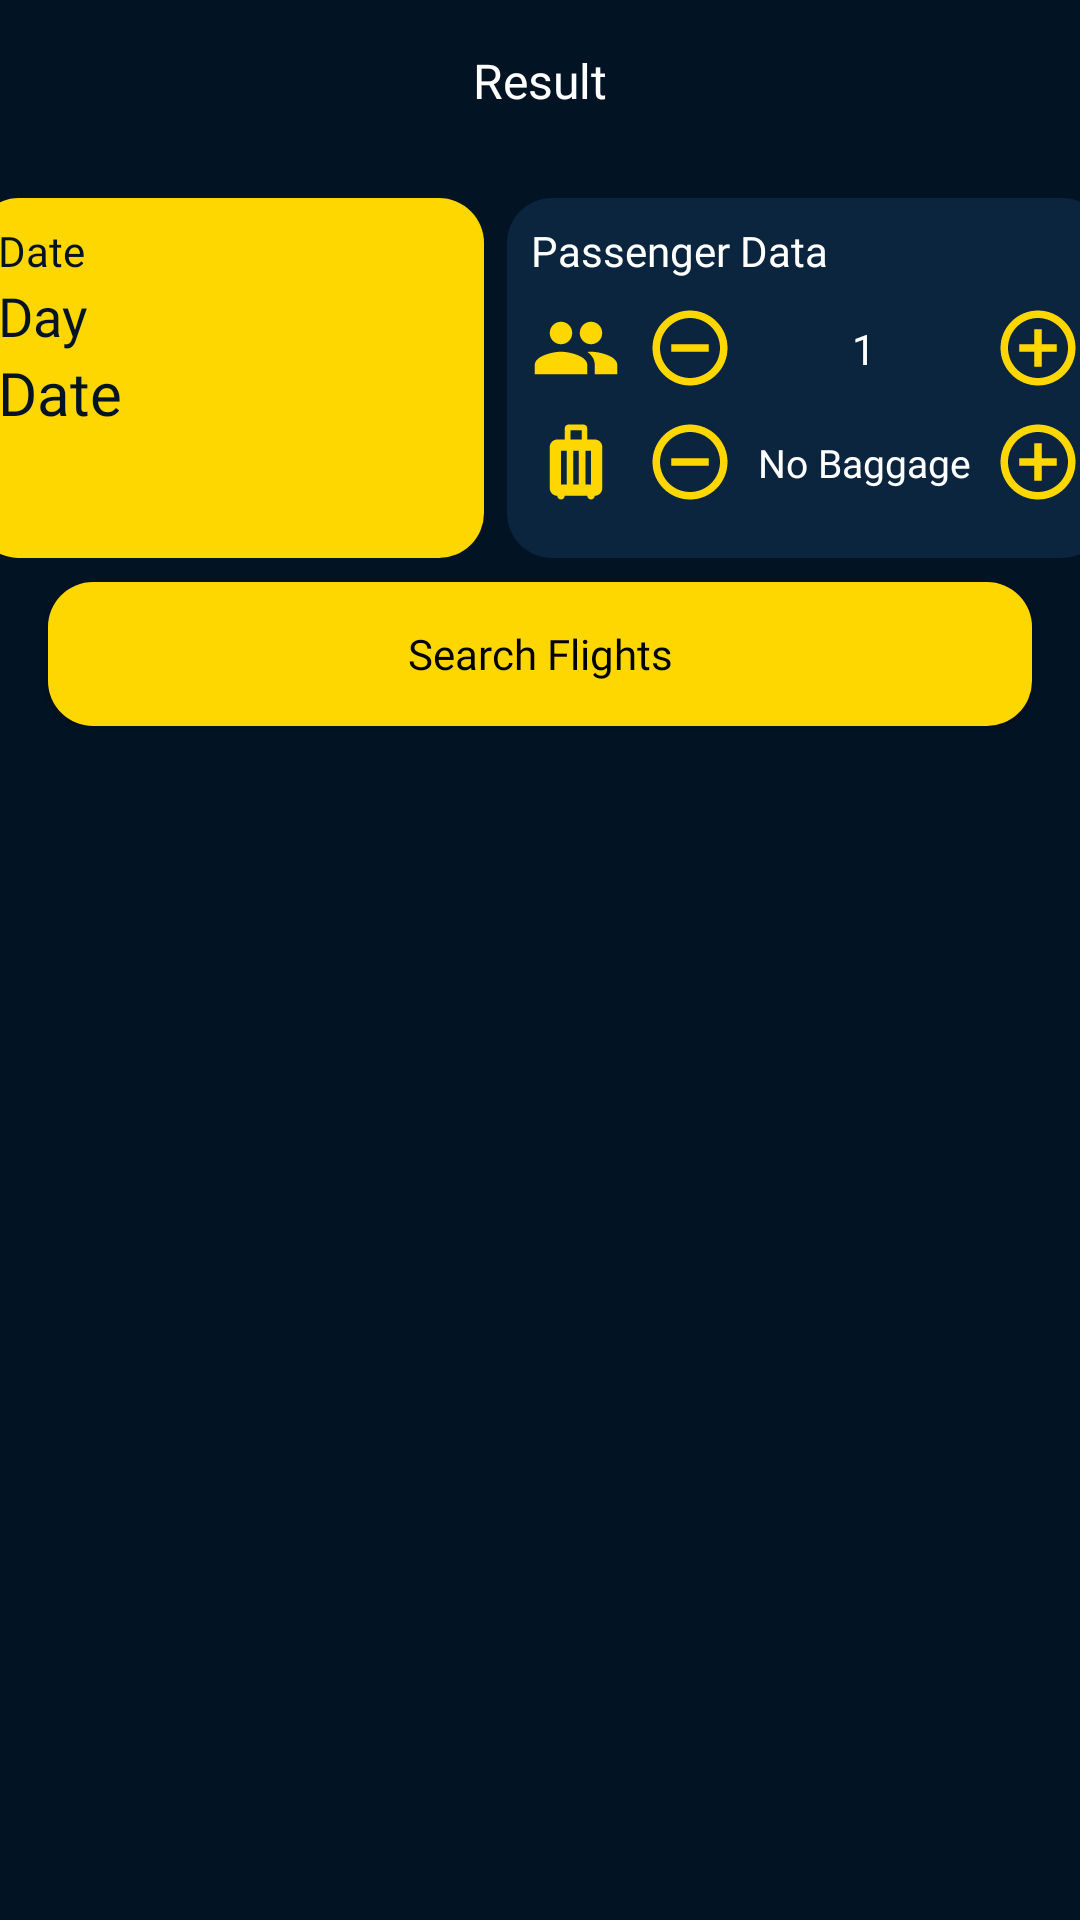

Named icons in this screenshot (1080 × 1920) and their centers, [x,y]:
add: [1038,348], [1038,462]
remove: [690,348], [690,462]
